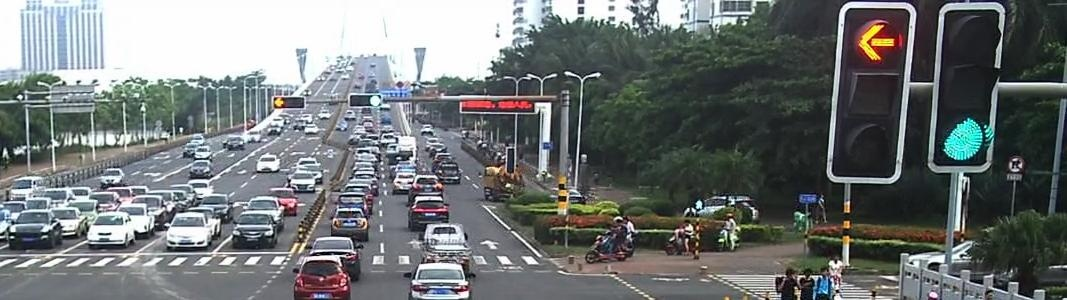green: (942, 118, 986, 161), (369, 95, 379, 107)
greenpeople: (694, 199, 704, 211)
redleft: (853, 16, 898, 64), (274, 97, 282, 108)
